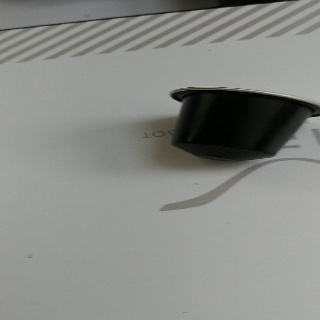capsule_10: (167, 85, 320, 163)
